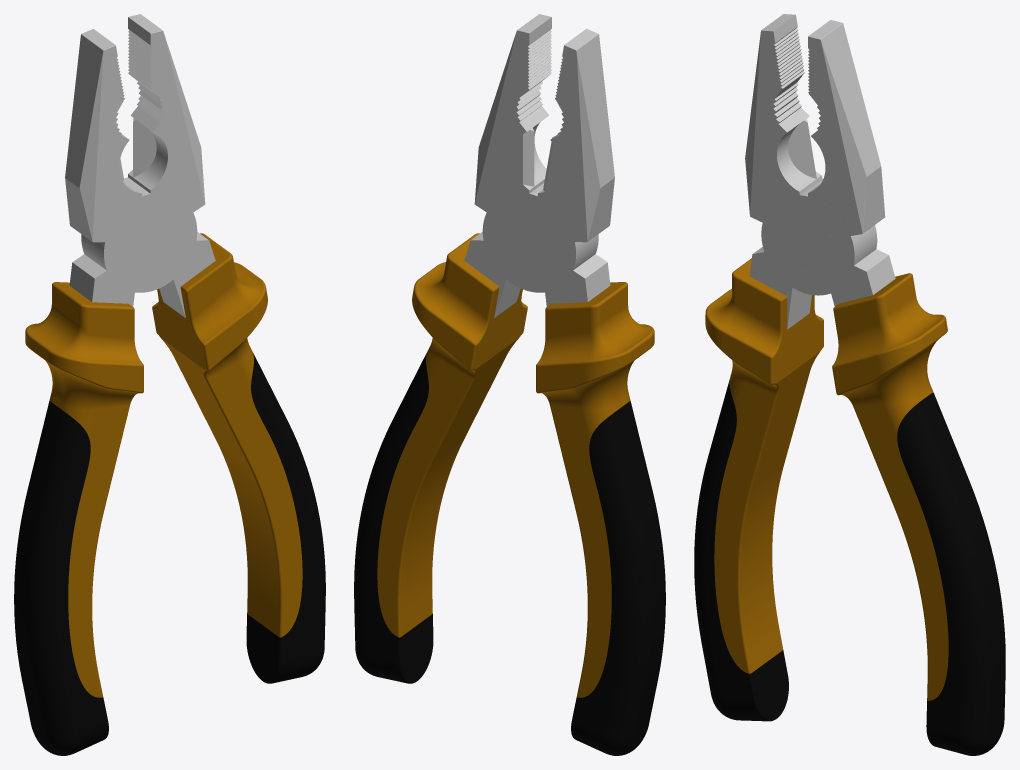
The model's file is Combination Pliers open 10 degrees.obj.
3 renders of one model, left to right at view 1: azimuth 30°, elevation 25°; view 2: azimuth 150°, elevation 25°; view 3: azimuth 330°, elevation 25°, orthographic.
Visible parts, largest first — view 1: Combination_Pliers_open_10_degrees; view 2: Combination_Pliers_open_10_degrees; view 3: Combination_Pliers_open_10_degrees.
Boxes of the visible parts, left/top/right/bottom form: Combination_Pliers_open_10_degrees: left=14, top=14, right=325, bottom=755; Combination_Pliers_open_10_degrees: left=354, top=14, right=665, bottom=755; Combination_Pliers_open_10_degrees: left=694, top=14, right=1005, bottom=755.
Bounding box in the file's own units: 68.23 × 156 × 21.
